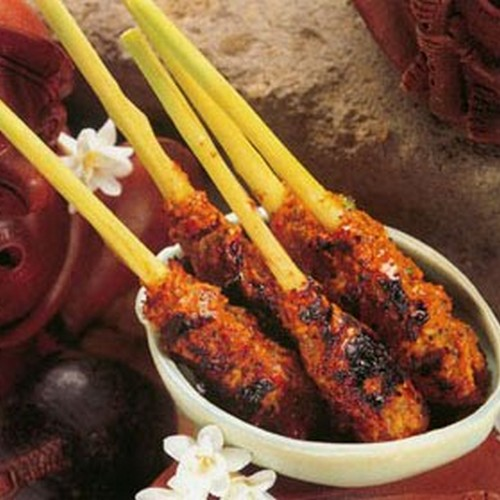sate languan: (169, 193, 439, 414), (131, 261, 325, 447)
